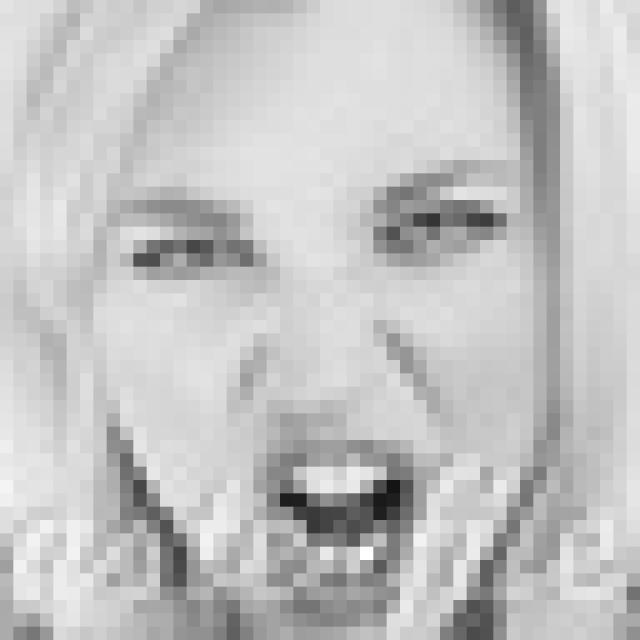angry: (102, 150, 515, 613)
